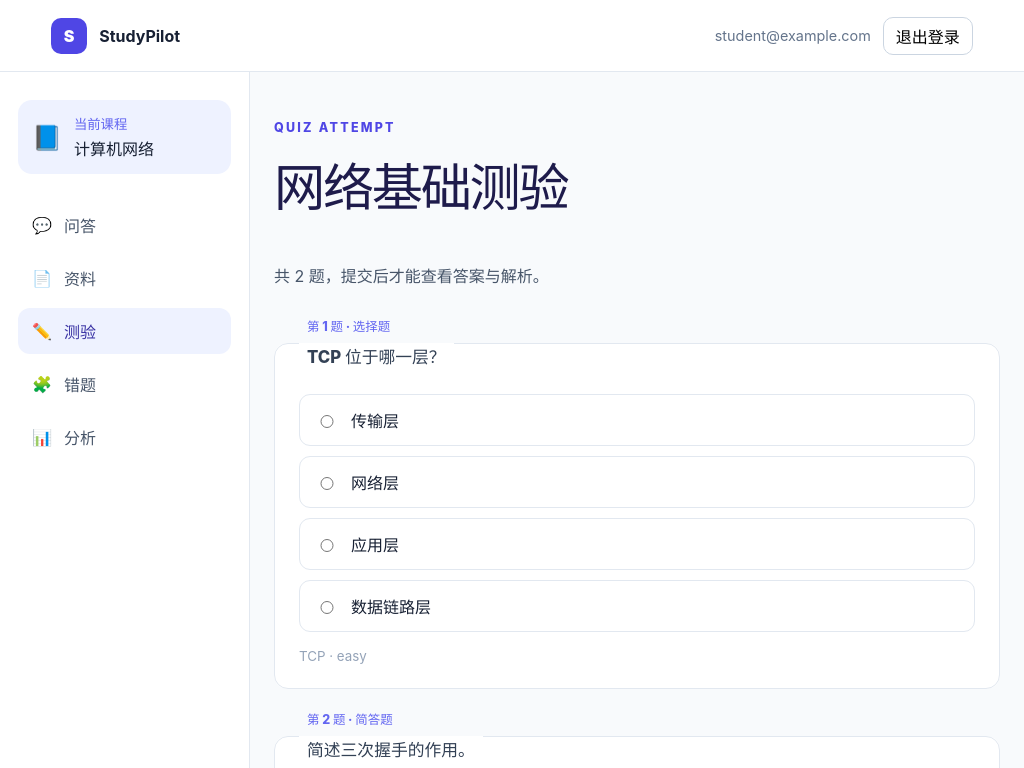
it: quiz learning flow › requires every answer, hides solutions before submit, and renders immutable results
Check: the text "TCP 位于哪一层？" is shown, box [307,347,446,367]
Check: the text "参考答案" is not shown
Click the radio button labelled "传输层": [327, 421] box [318,415,336,428]
(page scrolled)
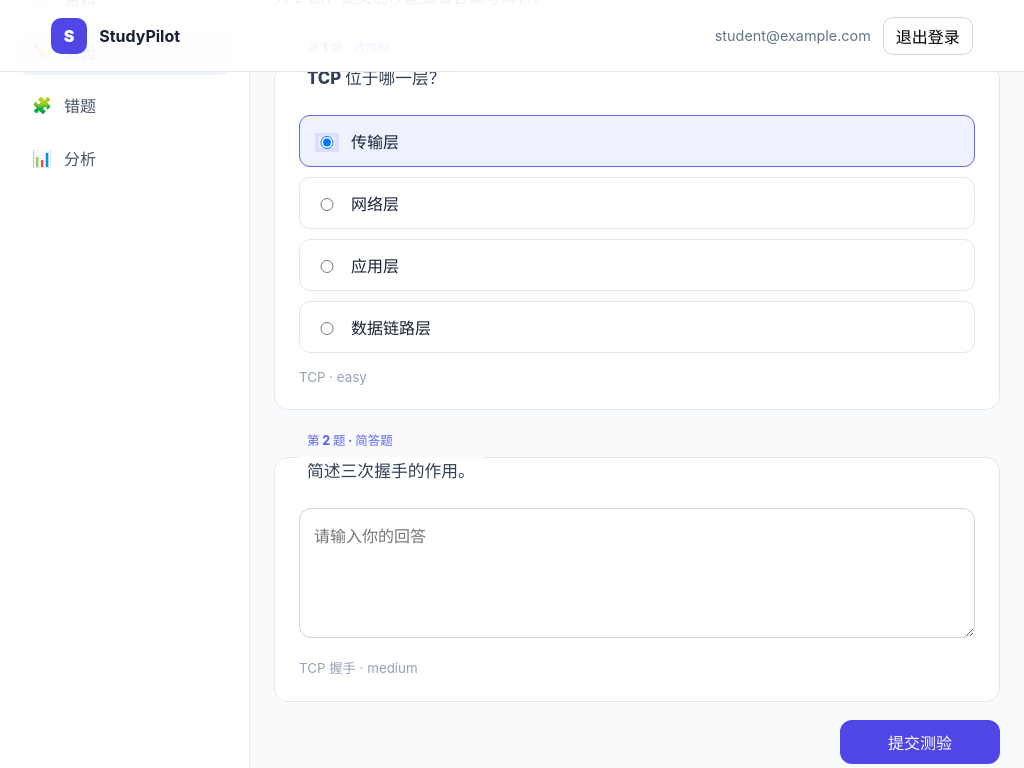
Click the button "提交测验": [920, 742] box [840,720,1000,764]
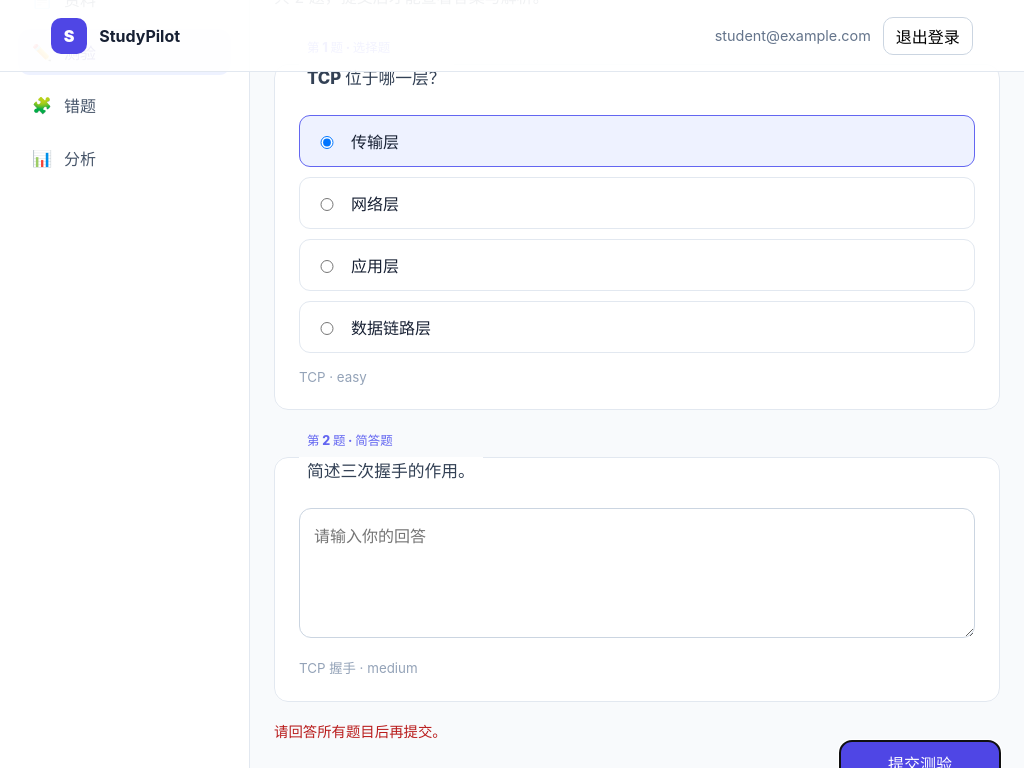
Check: the message shows "请回答所有题目", box [274,723,447,740]
In the text box named "第 2 题答案": [637, 573] box [299,508,975,638], type "确认发送能力"
(page scrolled)
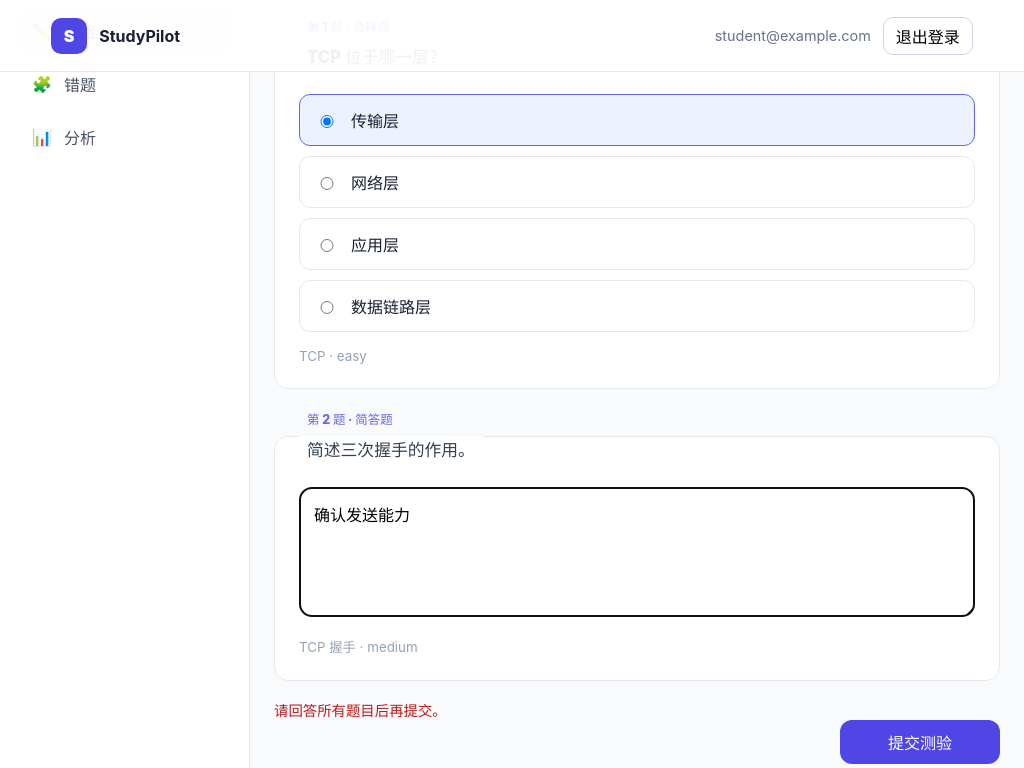
Click the button "提交测验": [920, 742] box [840,720,1000,764]
(page scrolled)
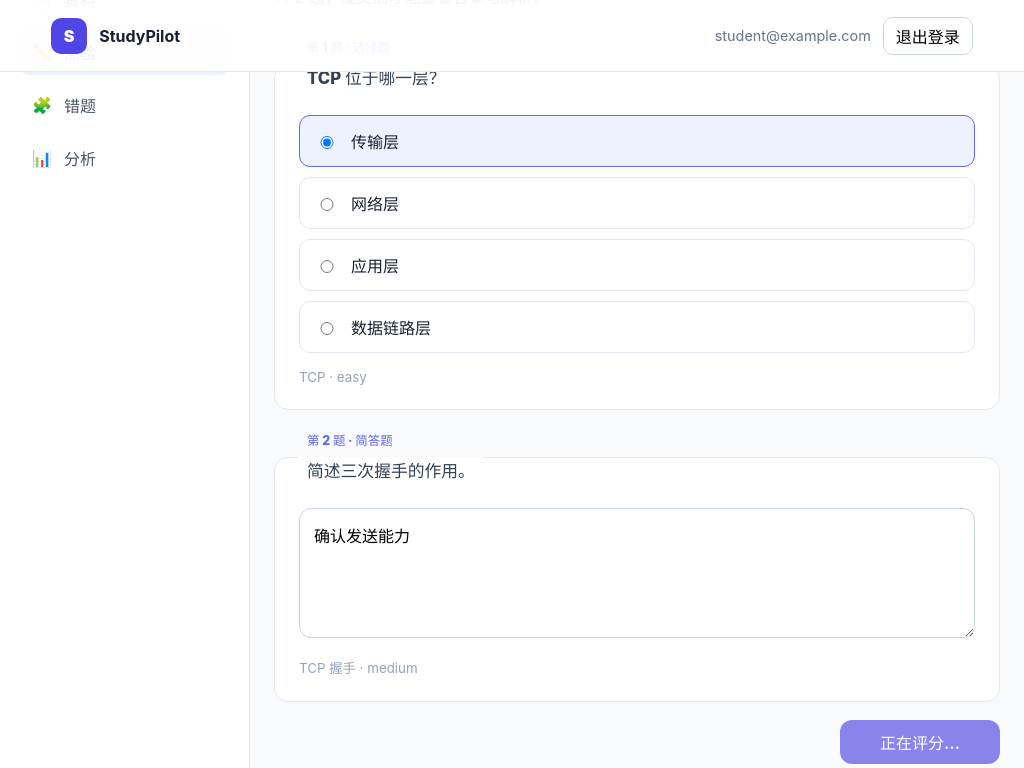
Check: the button "正在评分…" is disabled
Click the button "正在评分…": [920, 742] box [840,720,1000,764]
(page scrolled)
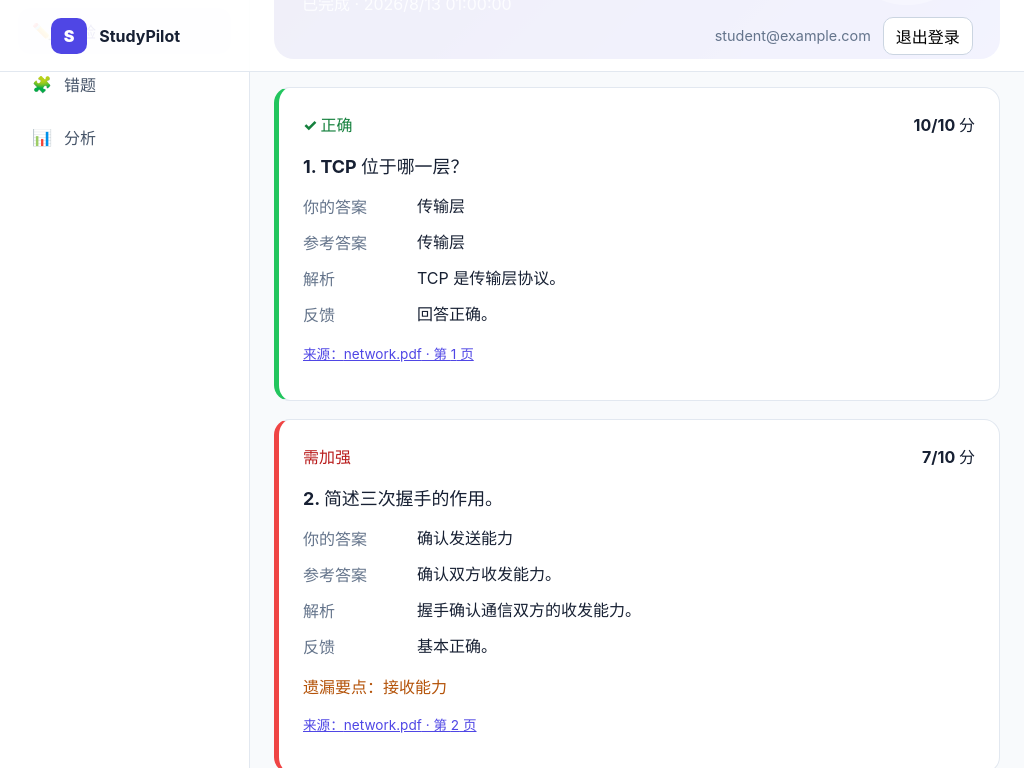
Check: the text "参考答案" is shown 2 times, box [303,233,367,253]; [303,565,367,585]
Check: the text "TCP 是传输层协议。" is shown, box [417,268,565,288]
Check: the text "确认双方收发能力。" is shown, box [417,564,561,584]
